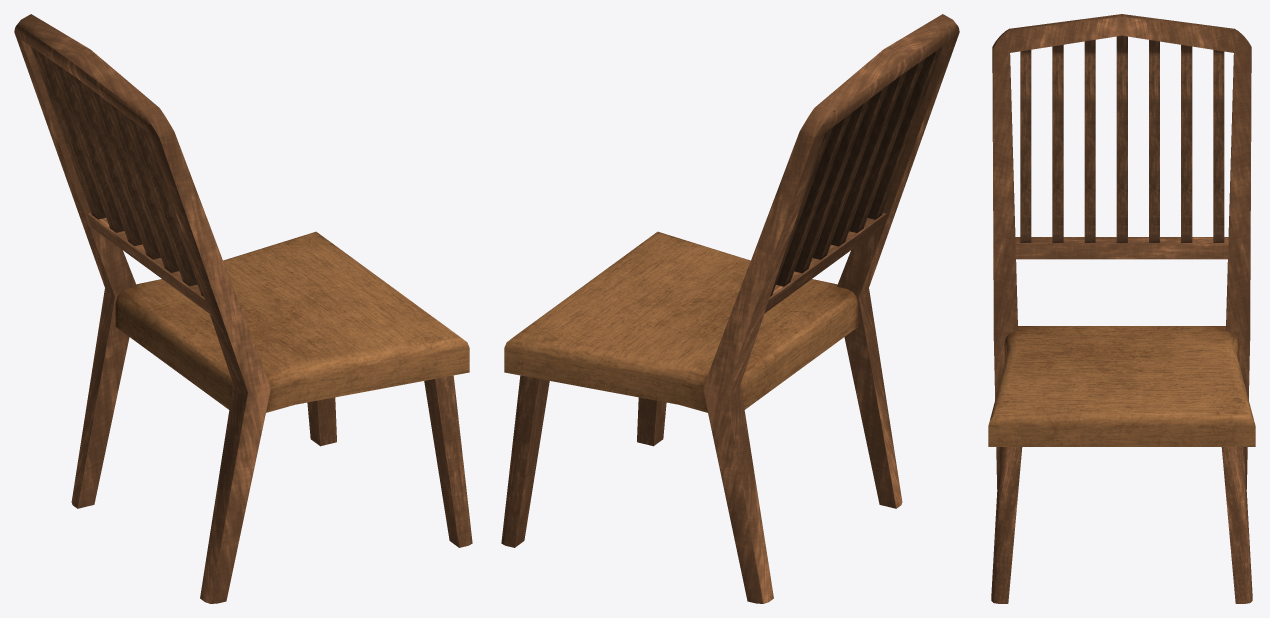
File: KursiKamar2fbx.fbx
3 views of the same model, side by side, from view 1: azimuth 30°, elevation 25°; view 2: azimuth 150°, elevation 25°; view 3: azimuth 270°, elevation 25° (orthographic). The views are drawn at different scales.
Visible parts, largest first — view 1: Plane.089, Plane.087, Plane.092, Plane.088, Plane.090; view 2: Plane.089, Plane.087, Plane.092, Plane.088, Plane.090; view 3: Plane.089, Plane.087, Plane.092, Plane.088, Plane.090.
Boxes of the visible parts, left/top/right/bottom form: Plane.089: left=115, top=231, right=469, bottom=412; Plane.087: left=14, top=14, right=270, bottom=603; Plane.092: left=23, top=26, right=203, bottom=296; Plane.088: left=307, top=375, right=472, bottom=547; Plane.090: left=87, top=213, right=209, bottom=313; Plane.089: left=504, top=231, right=858, bottom=412; Plane.087: left=703, top=14, right=959, bottom=603; Plane.092: left=770, top=26, right=949, bottom=296; Plane.088: left=501, top=375, right=666, bottom=547; Plane.090: left=764, top=213, right=886, bottom=313; Plane.089: left=988, top=326, right=1255, bottom=446; Plane.087: left=992, top=14, right=1251, bottom=488; Plane.092: left=1020, top=35, right=1224, bottom=242; Plane.088: left=991, top=447, right=1252, bottom=603; Plane.090: left=1015, top=237, right=1228, bottom=259.
Bounding box in the file's own units: 100 × 150 × 79.81.
Materials: 1 (1 with a texture image).
